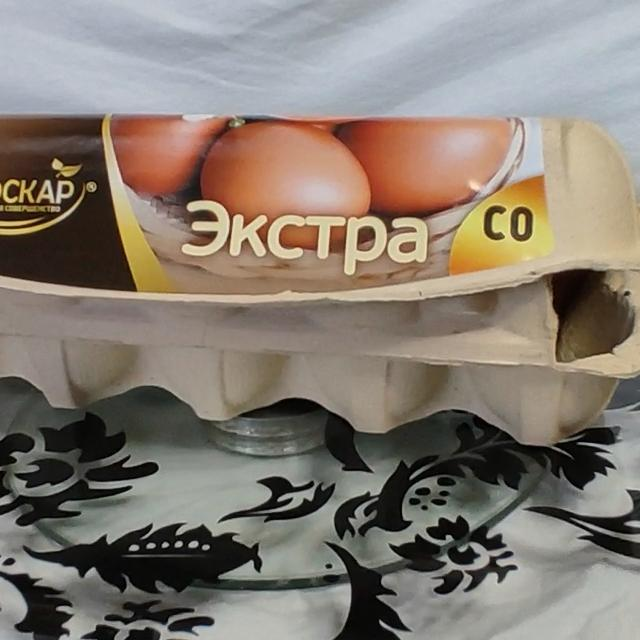egg: (0, 93, 630, 469)
